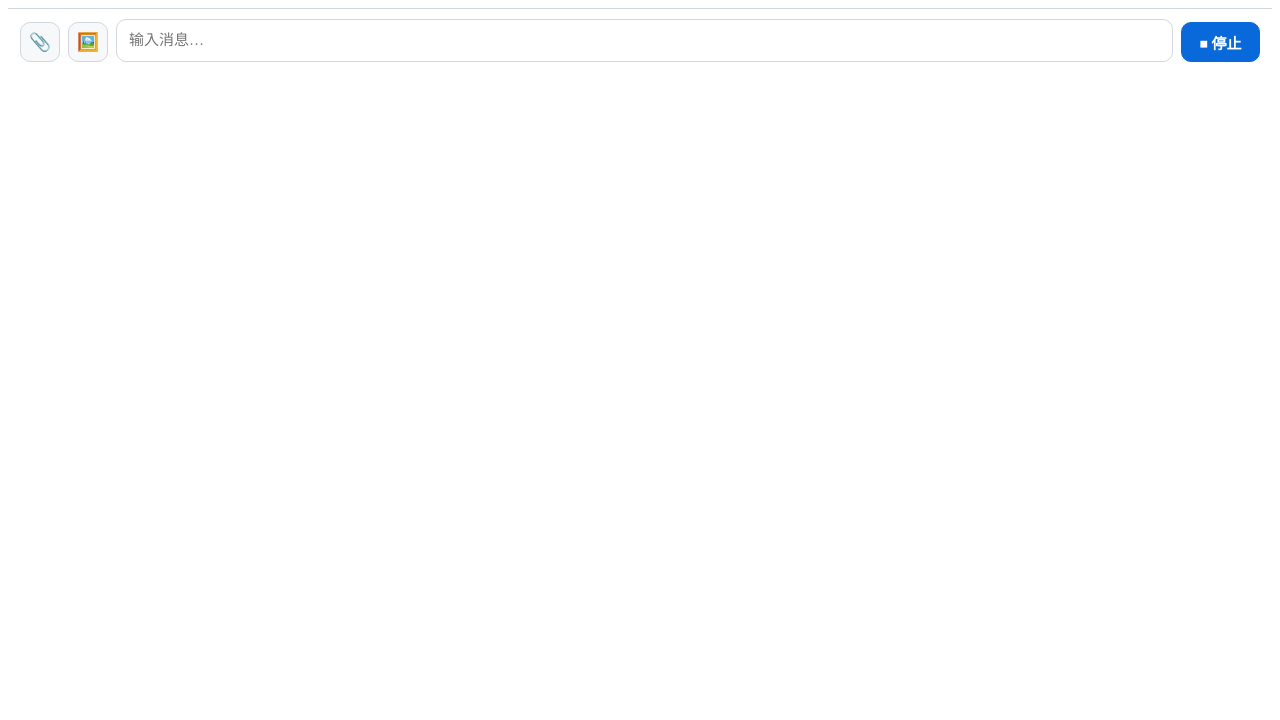
Composer › executing=true 时显示停止按钮,点击后弹出 ConfirmDialog
What coordinates should you click on to do the following:
click the button "⏹ 停止"
I would click on:
 (1221, 42)
Its box is [1181,22,1260,62].
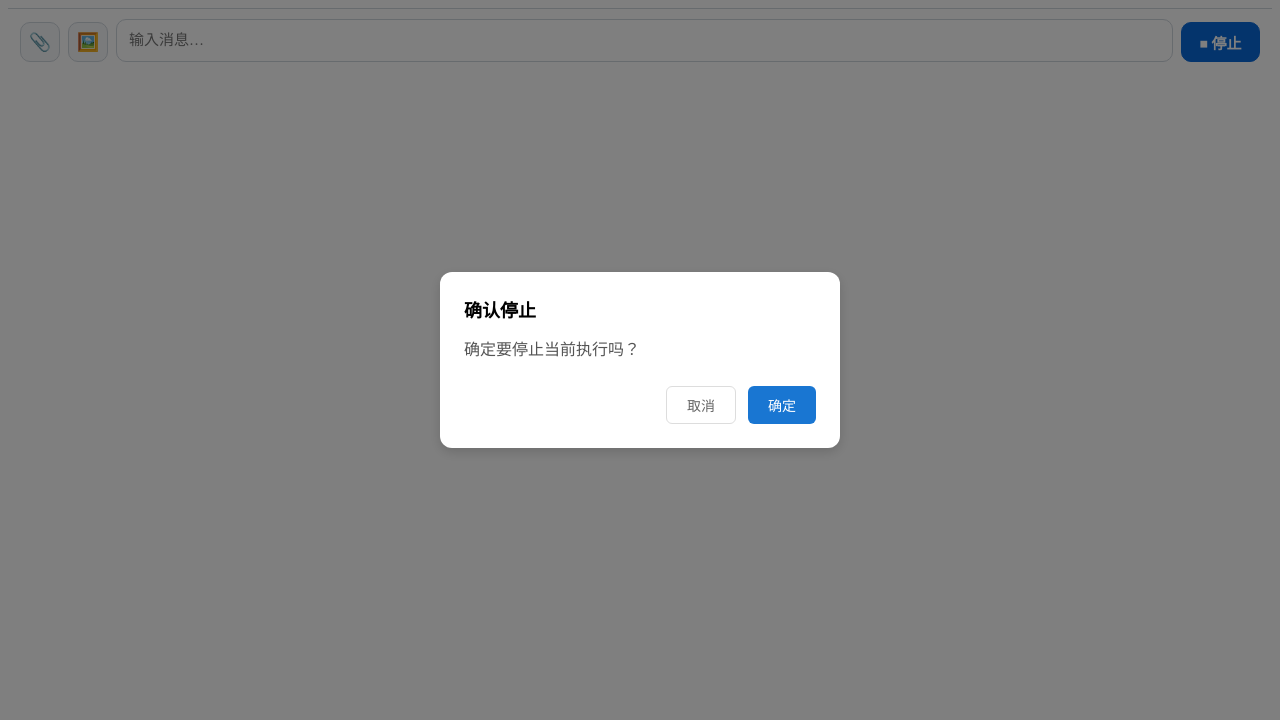
expect the heading "确认停止" is shown: met, box [464,301,536,321]
expect the text "确定要停止当前执行吗？" is shown: met, box [464,341,640,358]
